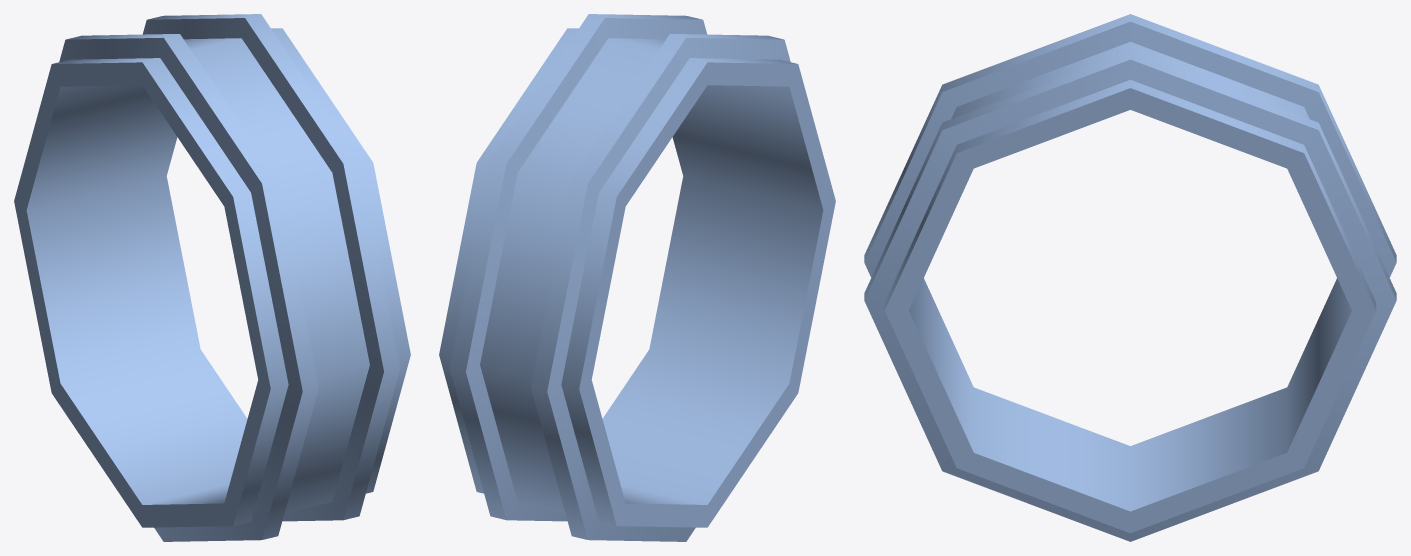
The model's file is PipeSmall_Connector_04_Hollow.fbx.
3 views of the same model, side by side, from view 1: azimuth 30°, elevation 25°; view 2: azimuth 150°, elevation 25°; view 3: azimuth 270°, elevation 25° (orthographic). The views are drawn at different scales.
Parts seen in each view (by area): view 1: PipeSmall_Connector_04_Hollow.001; view 2: PipeSmall_Connector_04_Hollow.001; view 3: PipeSmall_Connector_04_Hollow.001.
Part boxes in pixels (x1=…): PipeSmall_Connector_04_Hollow.001: x1=14, y1=14, x2=410, y2=541; PipeSmall_Connector_04_Hollow.001: x1=439, y1=14, x2=835, y2=541; PipeSmall_Connector_04_Hollow.001: x1=864, y1=14, x2=1396, y2=541.
Size of the model in its own units: 0.0339 by 0.1167 by 0.1167.
